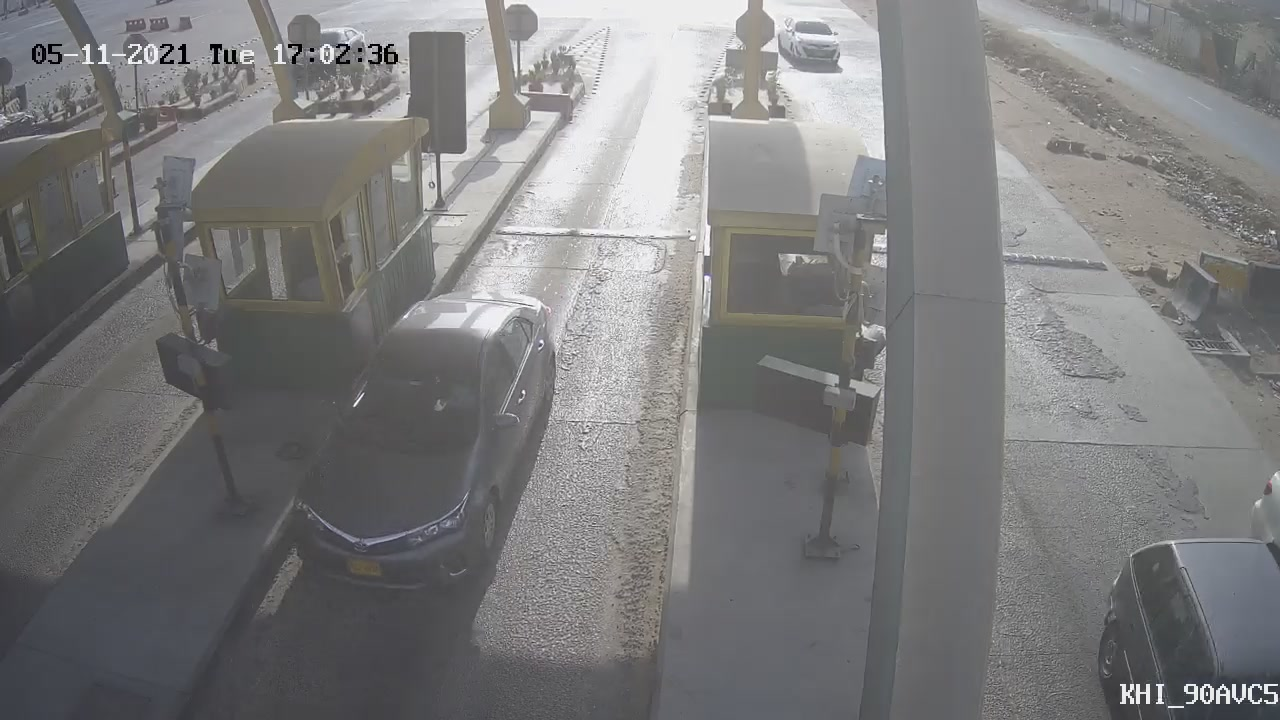F1: (260, 273, 582, 614)
